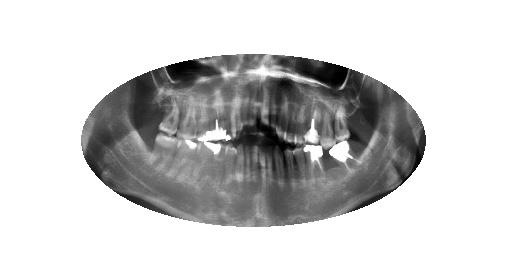i10decay: (242, 144, 251, 182)
i12healthy: (225, 147, 236, 185)
i13healthy: (213, 143, 225, 189)
i14healthy: (197, 140, 211, 184)
i15healthy: (176, 137, 196, 185)
i16healthy: (150, 133, 176, 178)
i1decay: (235, 145, 242, 183)
i1healthy: (327, 145, 360, 169)
i2loss: (321, 150, 341, 181)
i3healthy: (305, 146, 327, 185)
i4decay: (294, 148, 310, 188)
i5healthy: (282, 146, 296, 188)
i6decay: (273, 140, 284, 191)
i7decay: (266, 149, 275, 188)
i8decay: (258, 146, 265, 189)
i9decay: (251, 146, 259, 186)
u10decay: (241, 93, 250, 127)
u11decay: (236, 97, 241, 135)
u12healthy: (229, 100, 235, 141)
u13healthy: (211, 101, 228, 144)
u14healthy: (198, 104, 210, 142)
u15healthy: (179, 96, 198, 140)
u16healthy: (159, 93, 177, 137)
u1healthy: (332, 109, 351, 142)
u2healthy: (321, 113, 335, 151)
u3healthy: (305, 108, 320, 145)
u4healthy: (296, 106, 303, 143)
u5healthy: (286, 105, 297, 146)
u6decay: (275, 95, 283, 144)
u7decay: (270, 89, 275, 129)
u8decay: (260, 90, 270, 127)
u9decay: (249, 93, 258, 127)
